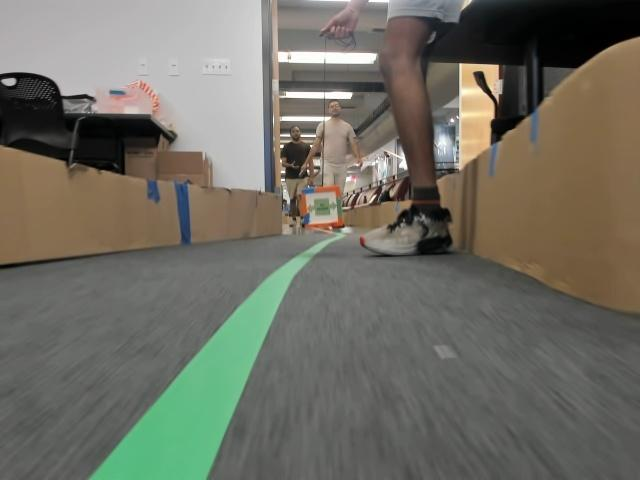Go Around: (308, 198, 335, 215)
